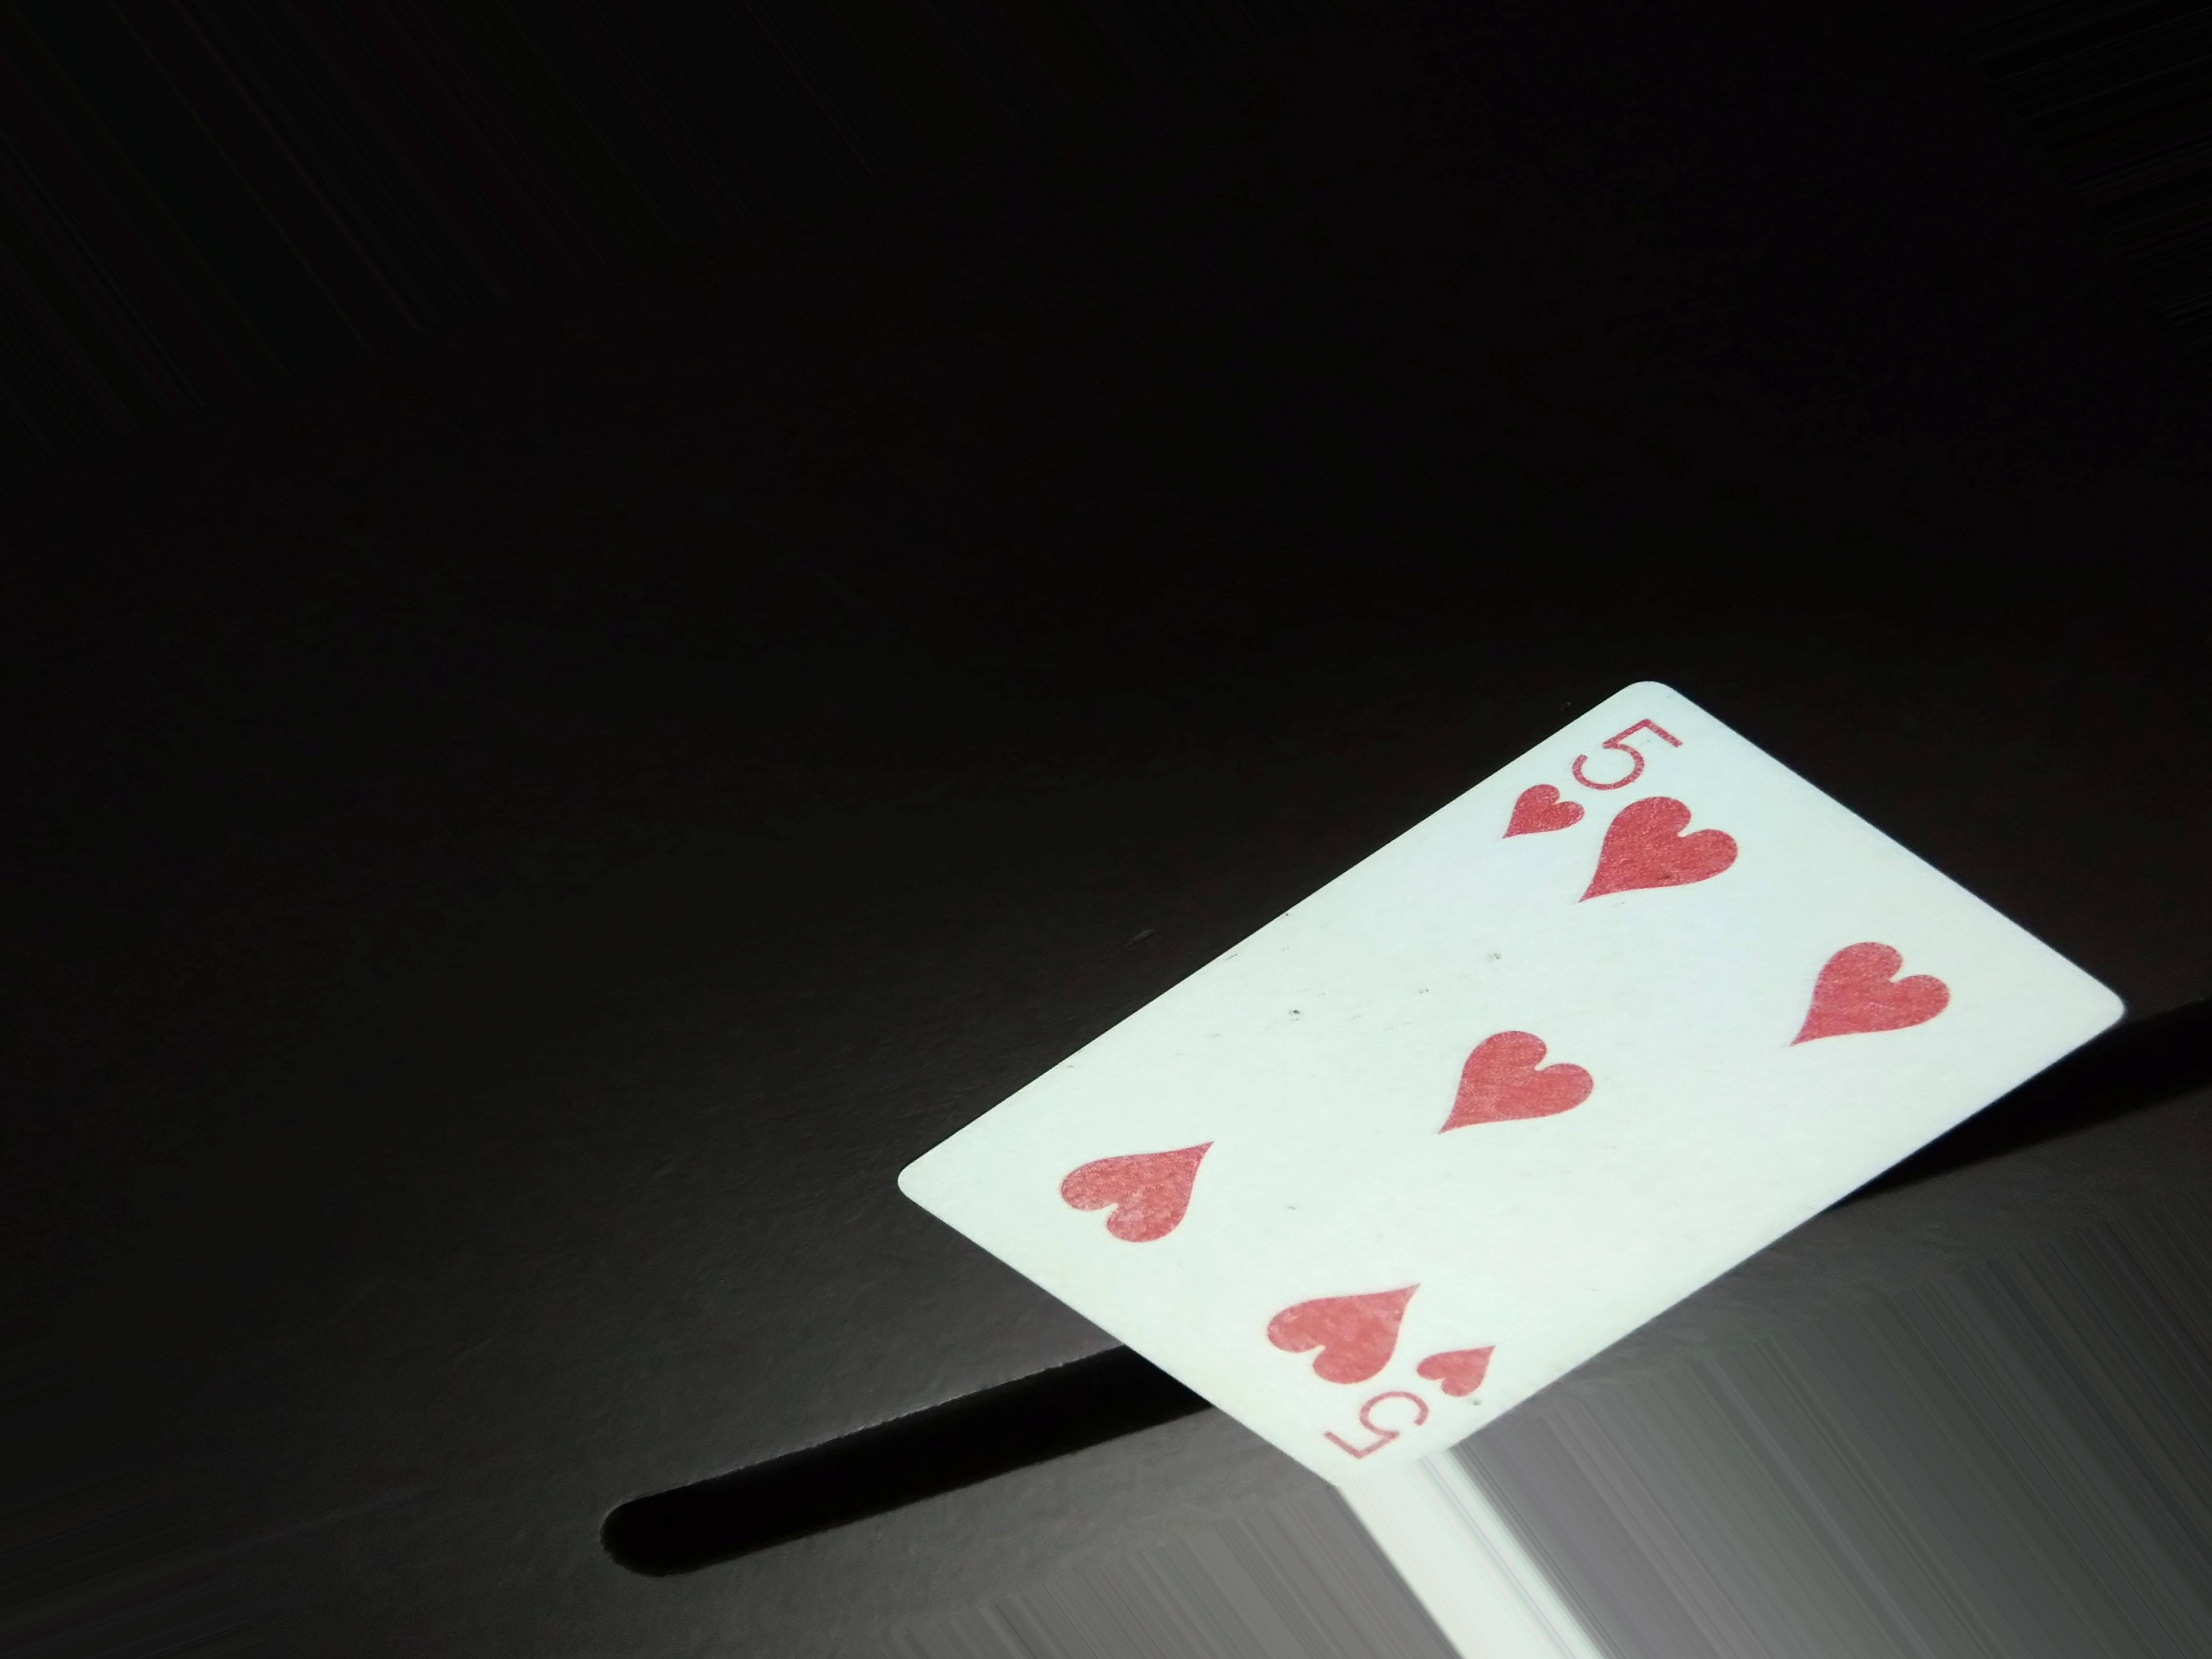5H: (1491, 699, 1677, 856)
